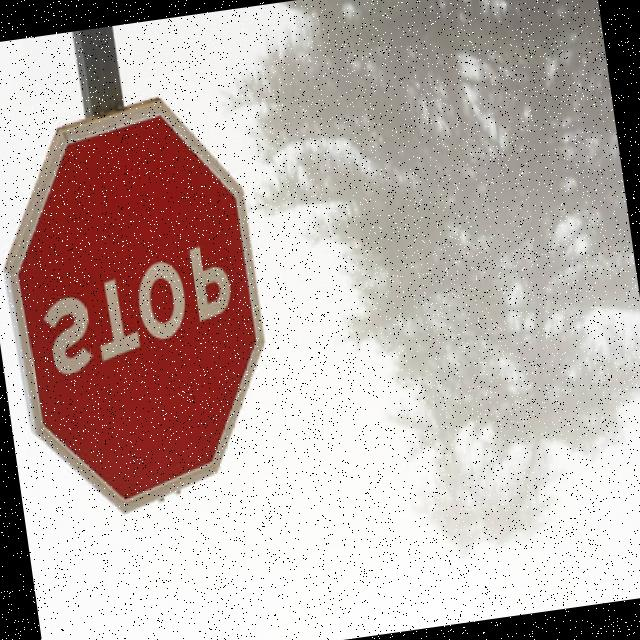stop: (0, 70, 303, 532)
